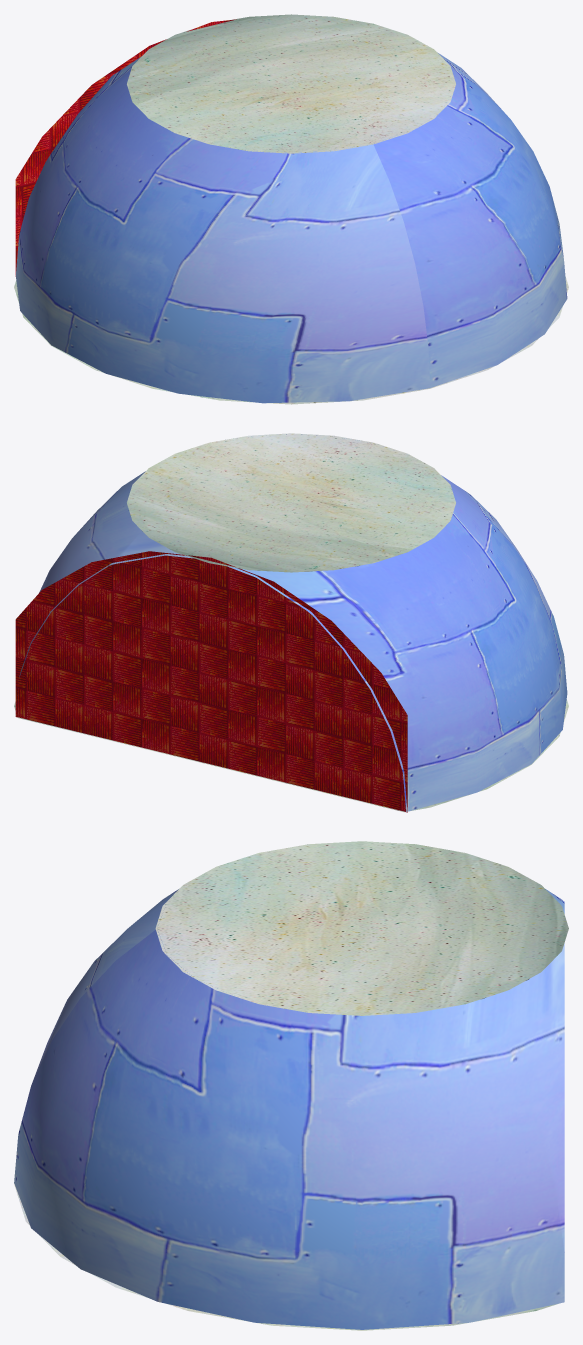
The model's file is habitacion.obj.
3 renders of one model, top to bottom at view 1: azimuth 30°, elevation 25°; view 2: azimuth 150°, elevation 25°; view 3: azimuth 270°, elevation 25°, orthographic. The views are drawn at different scales.
Parts seen in each view (by area): view 1: pDisc4; view 2: pDisc4; view 3: pDisc4.
Boxes of the visible parts, x1=… form: pDisc4: x1=14, y1=14, x2=568, y2=404; pDisc4: x1=14, y1=433, x2=568, y2=812; pDisc4: x1=14, y1=841, x2=568, y2=1330.
Bounding box in the file's own units: 23.93 × 9.85 × 19.07.
